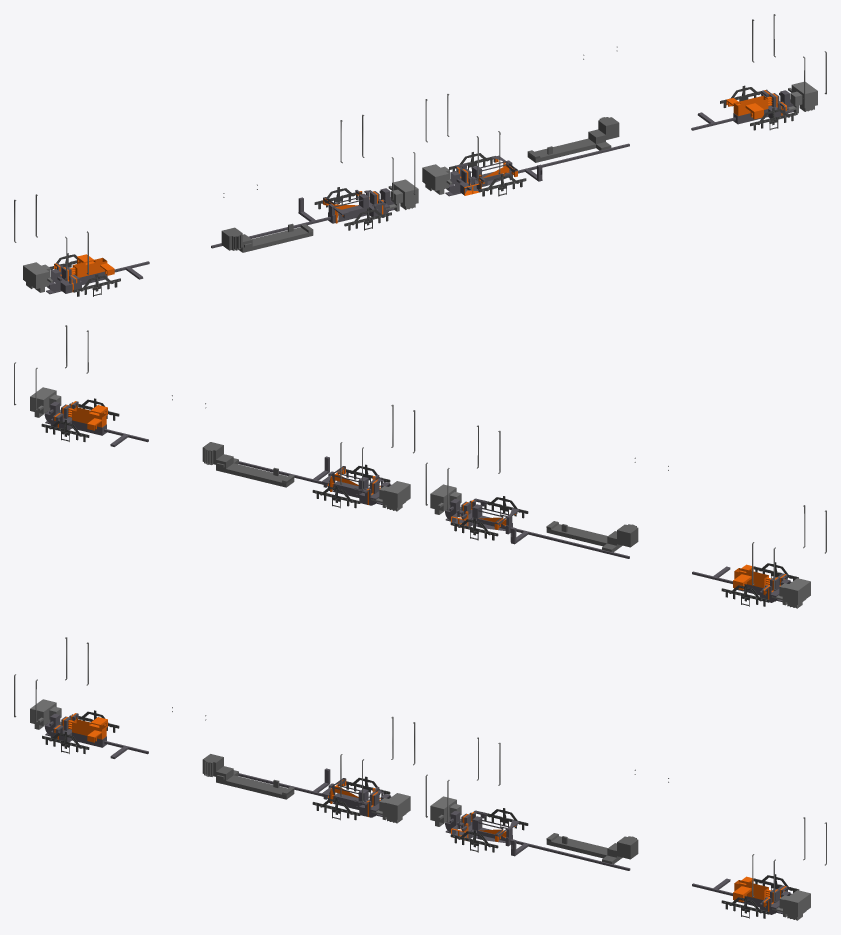
Rendered from lhb_coach.glb.
3 renders of one model, top to bottom at view 1: azimuth 30°, elevation 25°; view 2: azimuth 150°, elevation 25°; view 3: azimuth 330°, elevation 25°, orthographic.
Parts seen in each view (by area): view 1: Object_288, Object_133, Object_181, Object_26, Object_126, Object_281, Object_282, Object_127, Object_131, Object_279, Object_286, Object_124; view 2: Object_133, Object_288, Object_181, Object_26, Object_281, Object_282, Object_126, Object_286, Object_124, Object_127, Object_131, Object_279; view 3: Object_288, Object_133, Object_26, Object_181, Object_126, Object_127, Object_281, Object_131, Object_279, Object_282, Object_124, Object_286.
Part boxes in pixels (x1,y1,x2,y2): Object_288: (445, 143, 629, 196); Object_133: (211, 188, 394, 248); Object_181: (527, 117, 619, 162); Object_26: (221, 223, 313, 252); Object_126: (46, 261, 149, 294); Object_281: (691, 89, 793, 130); Object_282: (726, 90, 786, 119); Object_127: (54, 254, 114, 291); Object_131: (386, 179, 418, 211); Object_279: (785, 82, 817, 113); Object_286: (422, 164, 452, 194); Object_124: (23, 262, 52, 292); Object_133: (445, 498, 629, 558); Object_288: (238, 456, 391, 505); Object_181: (202, 442, 294, 487); Object_26: (546, 521, 638, 552); Object_281: (44, 401, 148, 446); Object_282: (54, 401, 107, 430); Object_126: (692, 566, 791, 602); Object_286: (371, 481, 410, 511); Object_124: (771, 578, 810, 608); Object_127: (733, 564, 785, 599); Object_131: (430, 484, 461, 514); Object_279: (30, 387, 61, 417); Object_288: (445, 810, 630, 870); Object_133: (238, 768, 391, 817); Object_26: (202, 754, 294, 799); Object_181: (546, 833, 638, 864); Object_126: (44, 713, 148, 758); Object_127: (54, 713, 107, 742); Object_281: (692, 878, 791, 914); Object_131: (371, 793, 410, 823); Object_279: (772, 890, 810, 920); Object_282: (733, 876, 786, 911); Object_124: (30, 699, 61, 729); Object_286: (430, 796, 461, 826).
Bounding box in the file's own units: 23.8 × 2.44 × 2.82.
